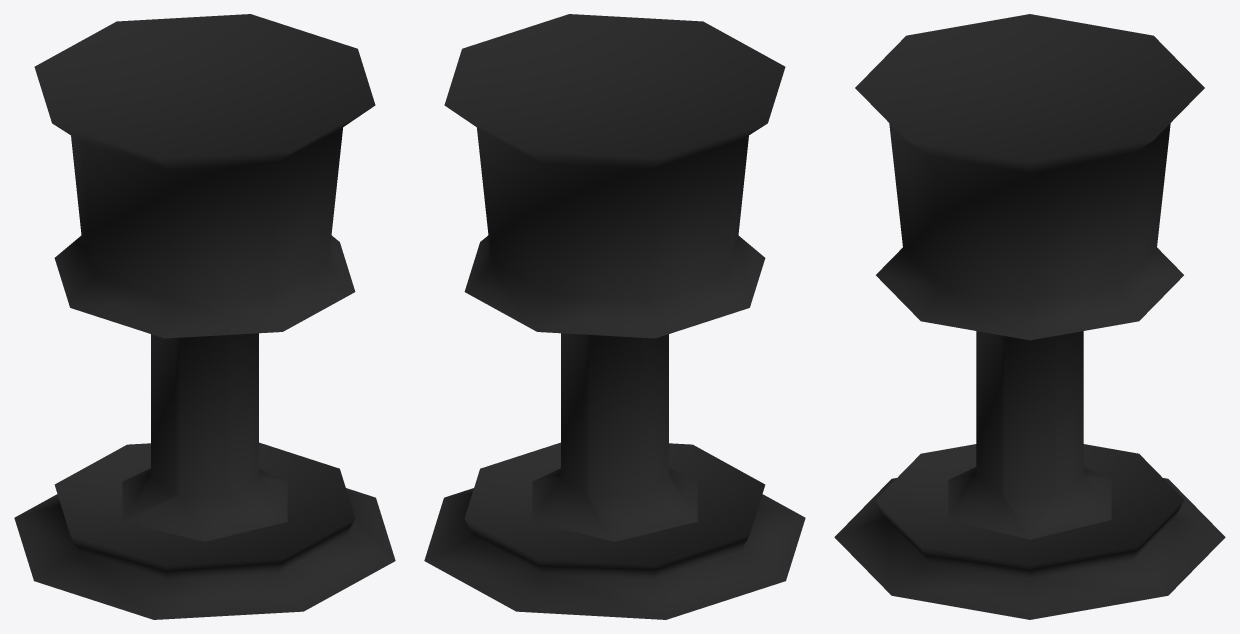
Rendered from goblet.glb.
The picture shows the model from 3 angles, left to right: view 1: azimuth 30°, elevation 25°; view 2: azimuth 150°, elevation 25°; view 3: azimuth 270°, elevation 25°; orthographic projection.
Visible parts, largest first — view 1: goblet; view 2: goblet; view 3: goblet.
Boxes of the visible parts, bbox=[...] form: goblet: bbox=[14, 14, 395, 619]; goblet: bbox=[424, 14, 805, 619]; goblet: bbox=[834, 14, 1225, 619].
Bounding box in the file's own units: 0.0947 × 0.12 × 0.0947.
1 material, 1 textured.
